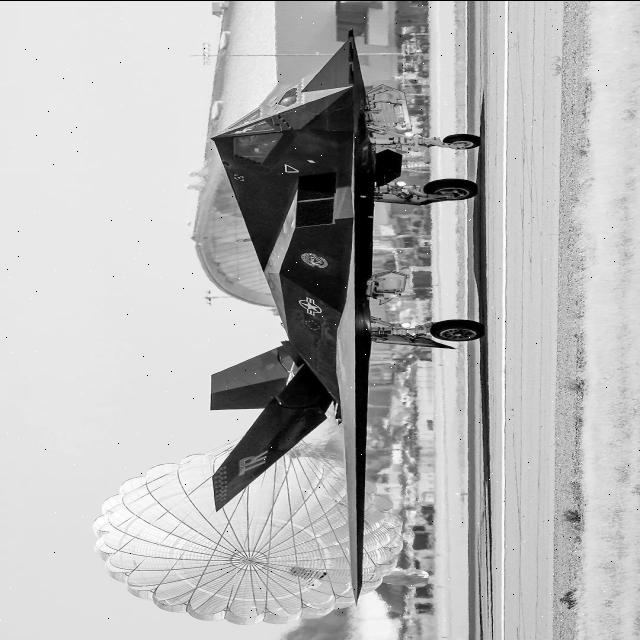F117: (148, 28, 510, 640)
